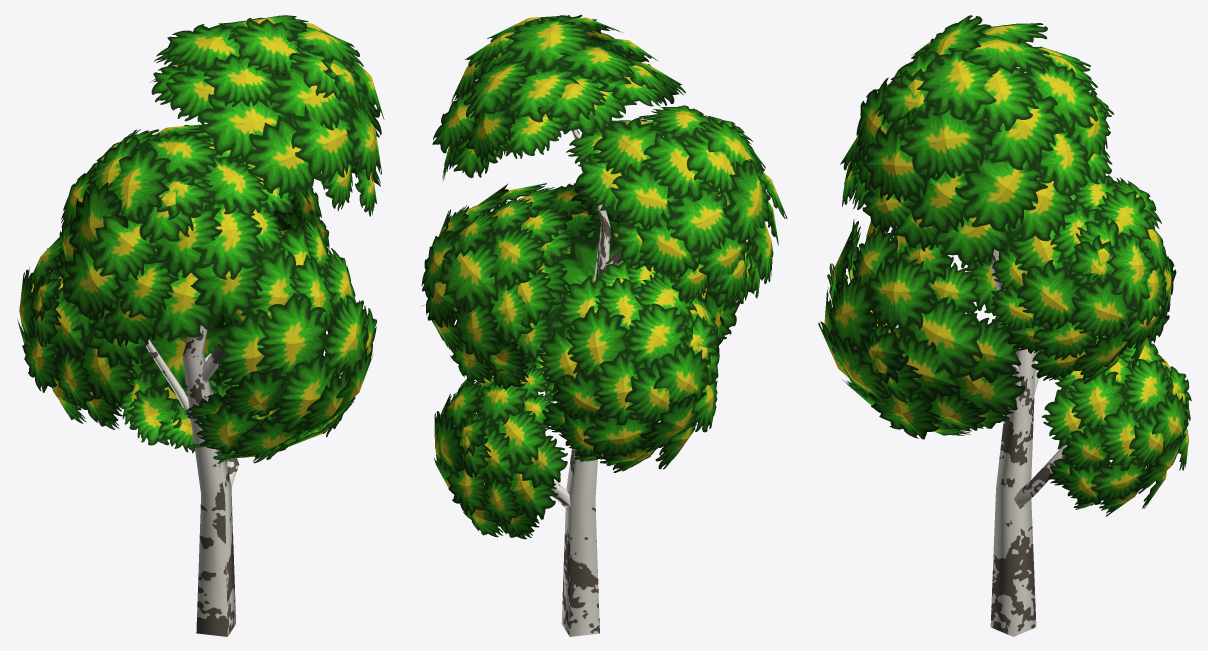
File: HardTreeLOD.fbx
The picture shows the model from 3 angles, left to right: view 1: azimuth 30°, elevation 25°; view 2: azimuth 150°, elevation 25°; view 3: azimuth 270°, elevation 25°; orthographic projection. The views are drawn at different scales.
Parts seen in each view (by area): view 1: HardLeaf_LOD0, HardTree; view 2: HardLeaf_LOD0, HardTree; view 3: HardLeaf_LOD0, HardTree.
Part boxes in pixels (box(x1,y1,x2,y2)): HardLeaf_LOD0: box(17, 15, 384, 463); HardTree: box(58, 81, 333, 636); HardLeaf_LOD0: box(421, 14, 787, 539); HardTree: box(420, 129, 622, 636); HardLeaf_LOD0: box(818, 15, 1191, 516); HardTree: box(883, 249, 1129, 636).
Size of what is drawn, in the model's own units: 8.78 by 16.38 by 9.12.
